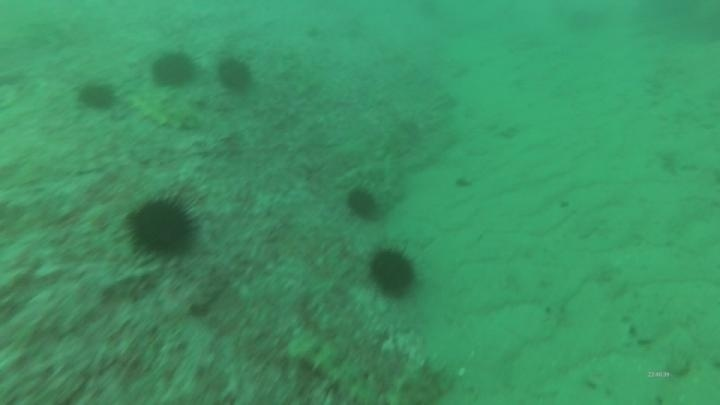echinus: (122, 191, 202, 262), (366, 244, 421, 302), (149, 48, 199, 91), (214, 54, 256, 96), (343, 184, 384, 223), (75, 79, 119, 113)
holothurian: (286, 329, 387, 405), (125, 88, 204, 134)
